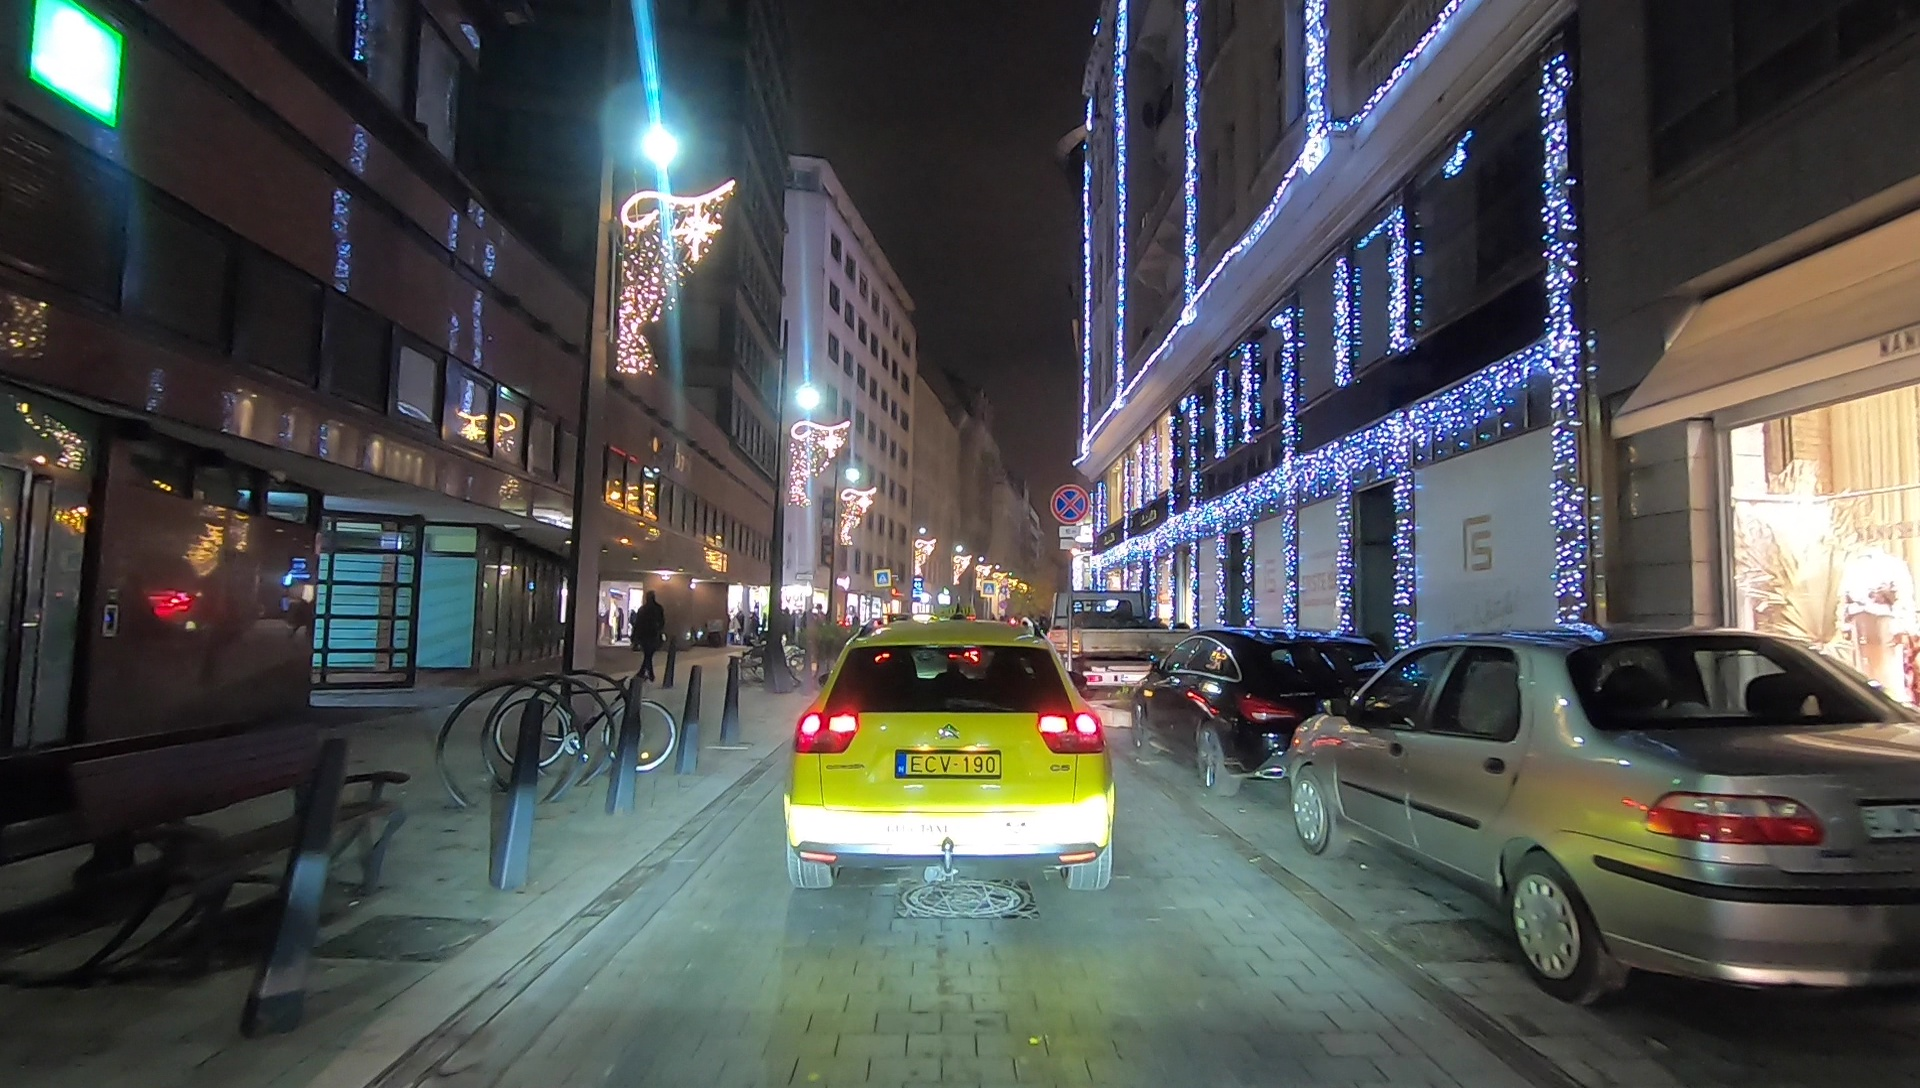person: (634, 589, 665, 686)
